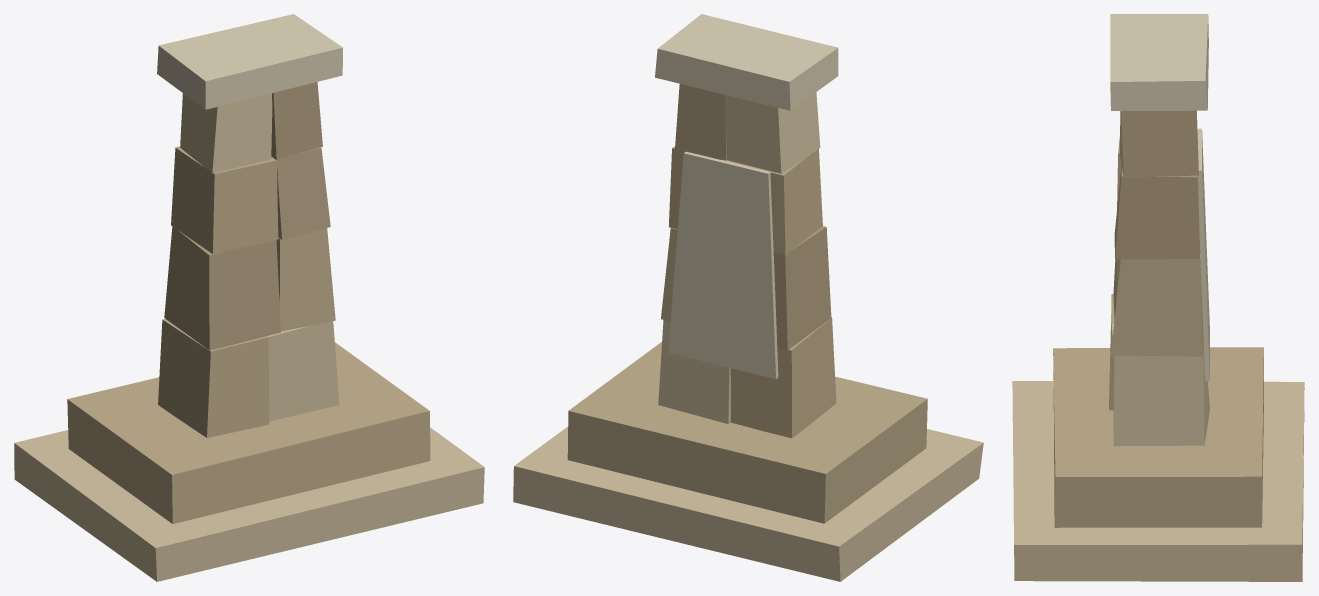
Rendered from parietti-monument.glb.
3 views of the same model, side by side, from view 1: azimuth 30°, elevation 25°; view 2: azimuth 150°, elevation 25°; view 3: azimuth 270°, elevation 25° (orthographic). The views are drawn at different scales.
Parts seen in each view (by area): view 1: parietti-monument; view 2: parietti-monument; view 3: parietti-monument.
Boxes of the visible parts, box(x1,y1,x2,y2) form: parietti-monument: box(14, 14, 484, 581); parietti-monument: box(513, 14, 983, 581); parietti-monument: box(1012, 14, 1304, 581).
Size of the model in its own units: 2.41 by 3.1 by 1.81.
